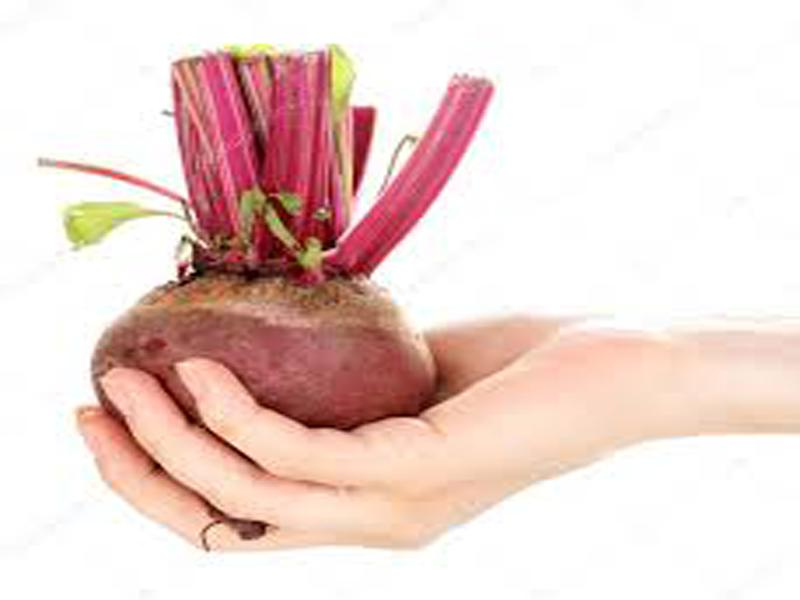Beet: (38, 46, 493, 543)
